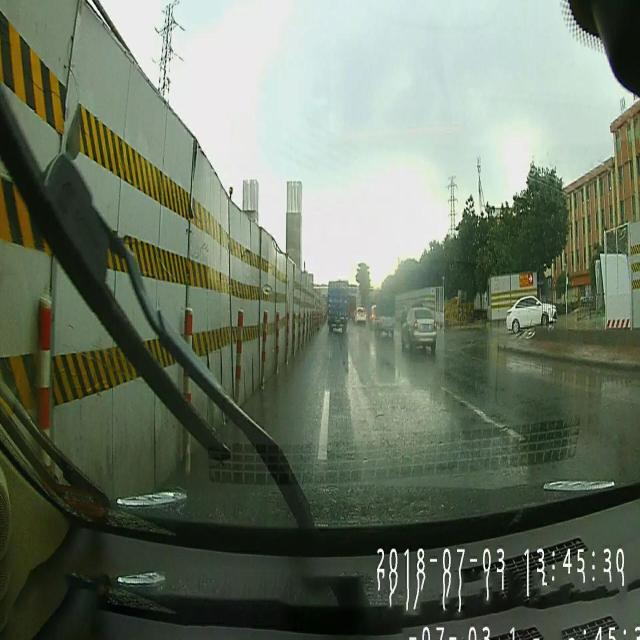car: (506, 295, 555, 333), (399, 307, 437, 354), (328, 278, 350, 334), (374, 294, 396, 336), (354, 304, 366, 326)
